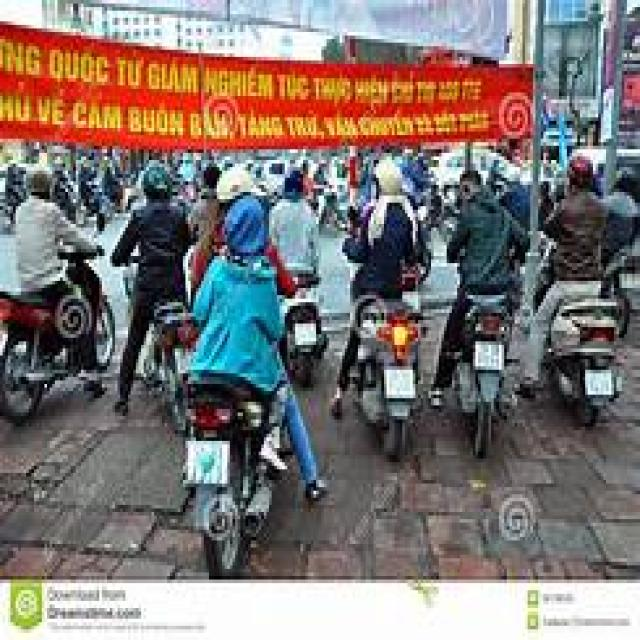Two Wheeler: (152, 303, 271, 576), (340, 295, 420, 457), (0, 293, 90, 421), (538, 296, 622, 423), (460, 294, 514, 455), (285, 272, 326, 375)
